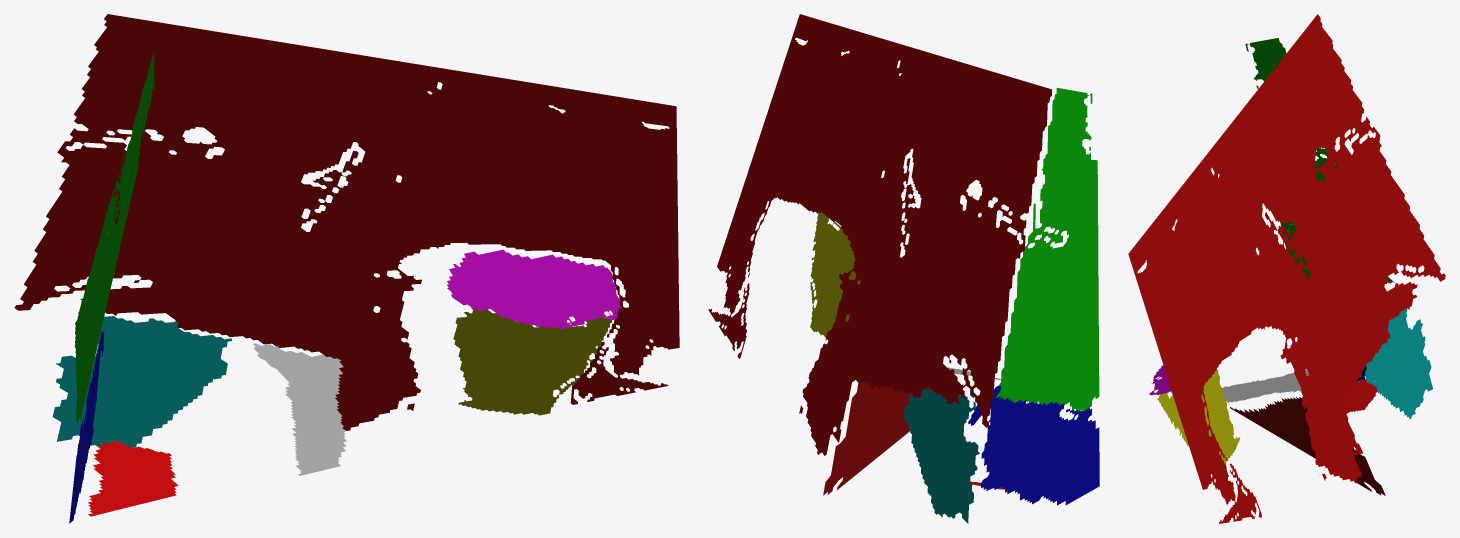
Rendered from 326_seg_GTplane.glb.
3 views of the same model, side by side, from view 1: azimuth 30°, elevation 25°; view 2: azimuth 150°, elevation 25°; view 3: azimuth 270°, elevation 25° (orthographic). The views are drawn at different scales.
Bounding box in the file's own units: 1.71 × 1.6 × 1.16.
